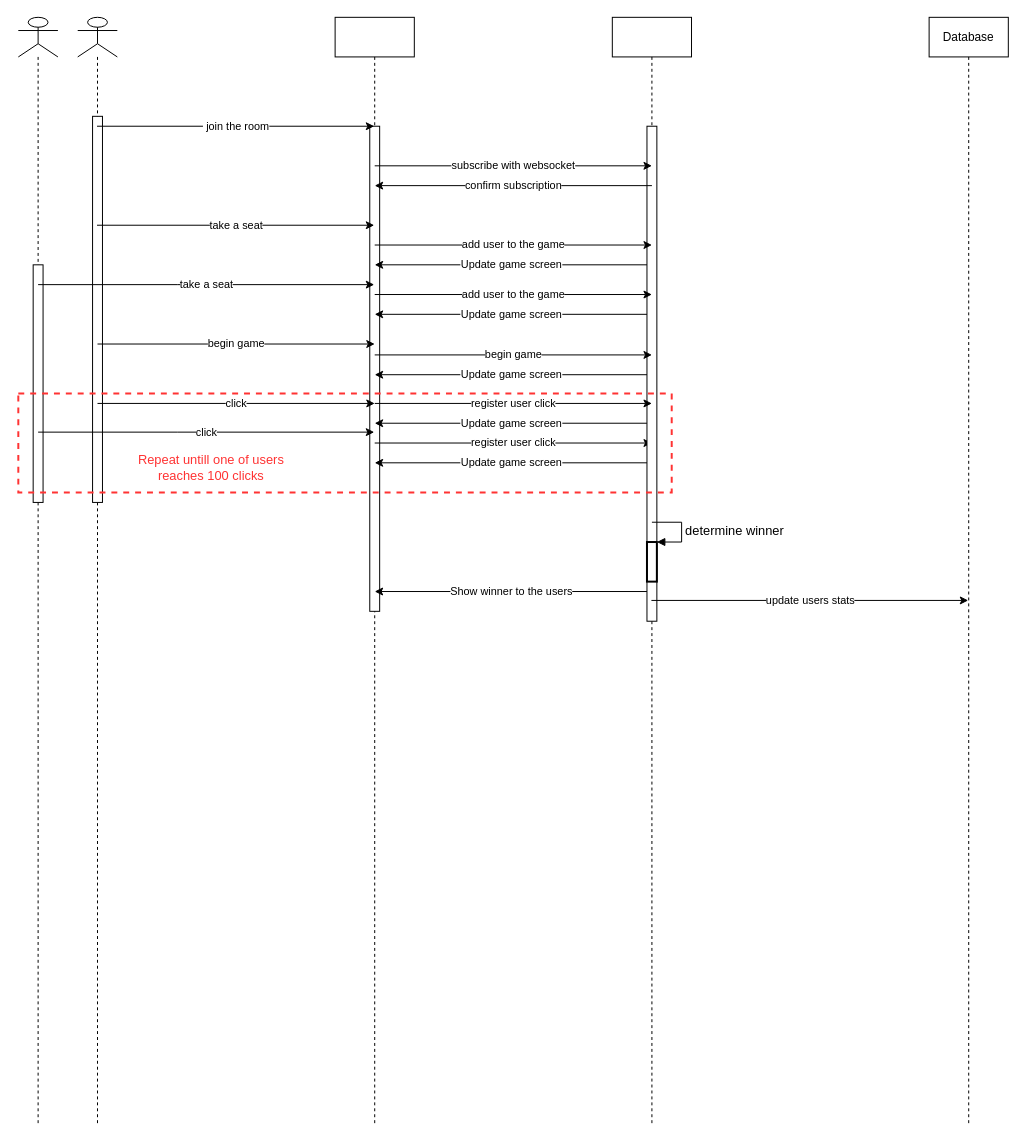
The diagram is 1026 pixels wide and 1143 high, and some of its shapes have lost their labels. The shapes that lost their labels are listed below. From the top down, each one's box as (x1, y1, x2, y2) in pixels, then its label:
(334, 16, 414, 1126): Frontend
(611, 16, 692, 1126): Backend
